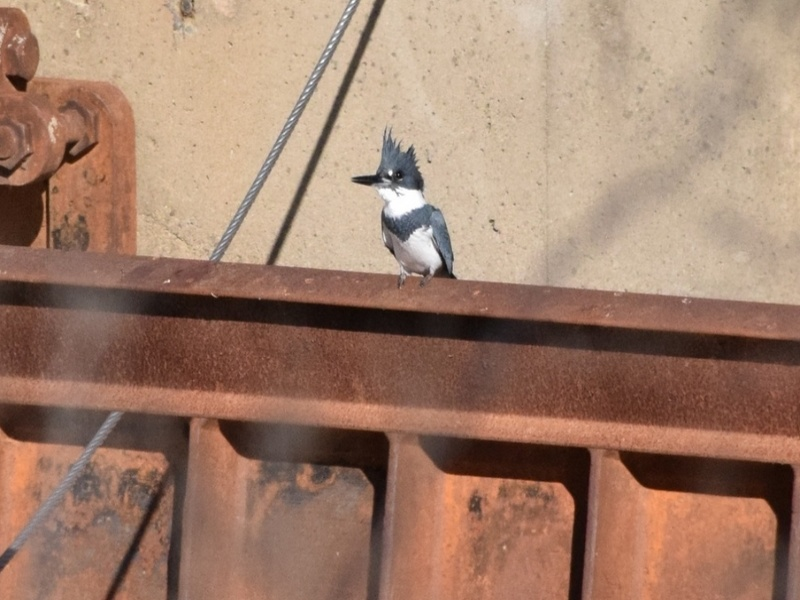kingfisher: (350, 124, 456, 289)
